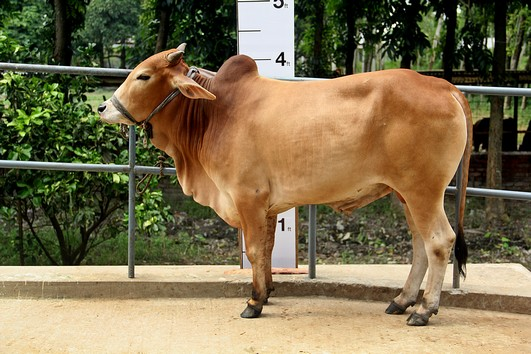cow: (89, 34, 481, 329)
